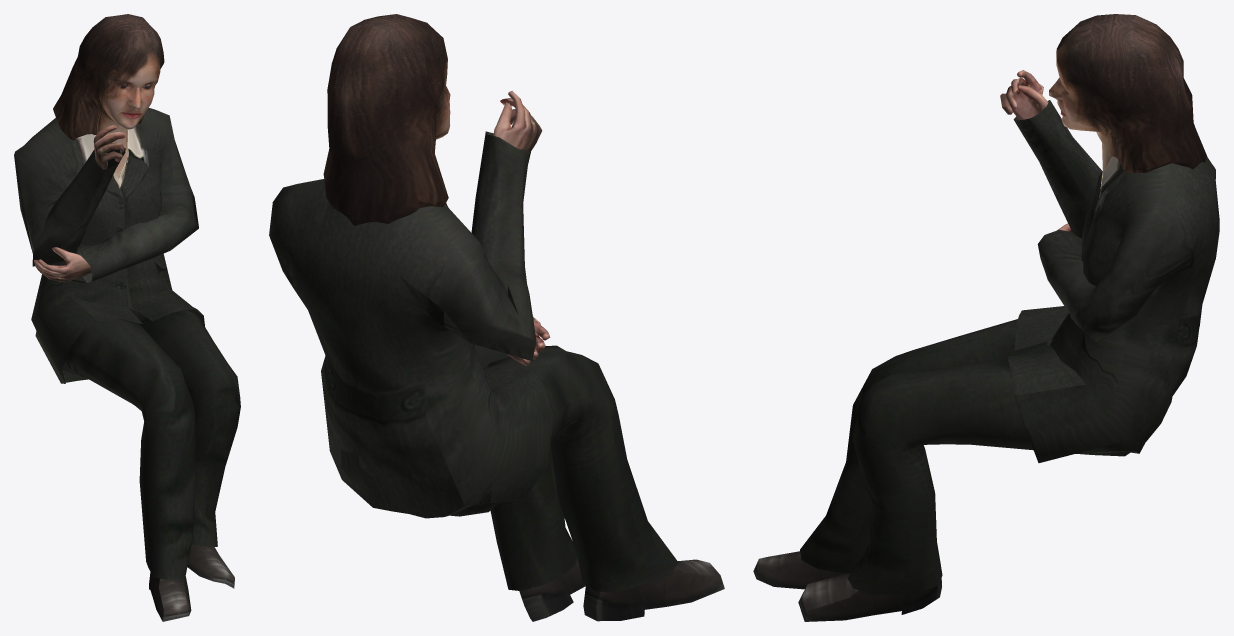
The model's file is 3DGJ_pj04_qyp.FBX.
3 views of the same model, side by side, from view 1: azimuth 30°, elevation 25°; view 2: azimuth 150°, elevation 25°; view 3: azimuth 270°, elevation 25° (orthographic). The views are drawn at different scales.
Visible parts, largest first — view 1: 3DGJ_pj04_qyp; view 2: 3DGJ_pj04_qyp; view 3: 3DGJ_pj04_qyp.
Part boxes in pixels (<box>): 3DGJ_pj04_qyp: <box>14,14,240,621</box>; 3DGJ_pj04_qyp: <box>269,14,724,621</box>; 3DGJ_pj04_qyp: <box>753,14,1219,621</box>.
Bounding box in the file's own units: 0.5395 × 1.45 × 0.9981.
